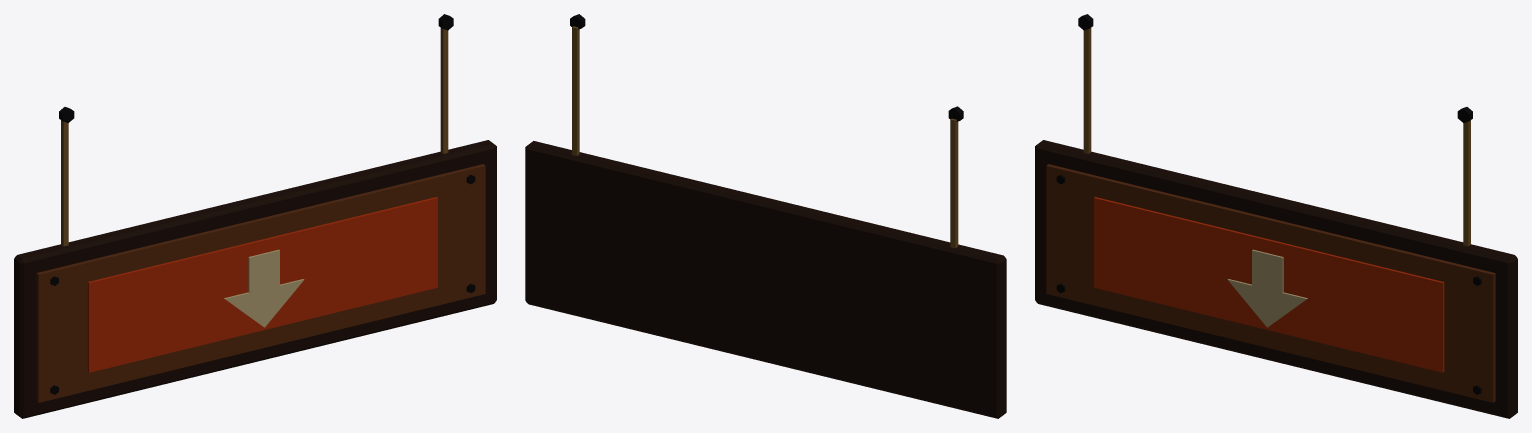
File: SM_Hide_Sign_Plank_Orange.glb
The picture shows the model from 3 angles, left to right: view 1: azimuth 30°, elevation 25°; view 2: azimuth 150°, elevation 25°; view 3: azimuth 330°, elevation 25°; orthographic projection.
Parts seen in each view (by area): view 1: SM_Hide_Sign_Plank_Orange; view 2: SM_Hide_Sign_Plank_Orange; view 3: SM_Hide_Sign_Plank_Orange.
Part boxes in pixels (bbox=[...]): SM_Hide_Sign_Plank_Orange: bbox=[14, 14, 496, 418]; SM_Hide_Sign_Plank_Orange: bbox=[525, 14, 1006, 418]; SM_Hide_Sign_Plank_Orange: bbox=[1035, 14, 1517, 418].
Size of the model in its own units: 1.56 by 0.932 by 0.077.
